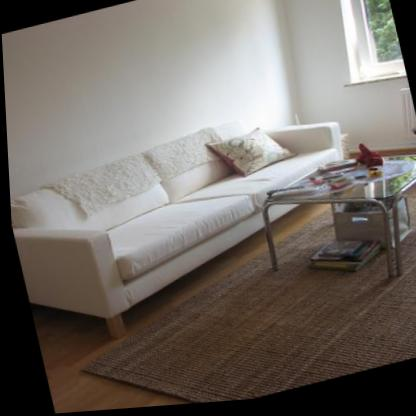Carpet: (78, 188, 416, 406)
Sofa: (5, 90, 374, 359)
Table: (231, 124, 416, 315)
